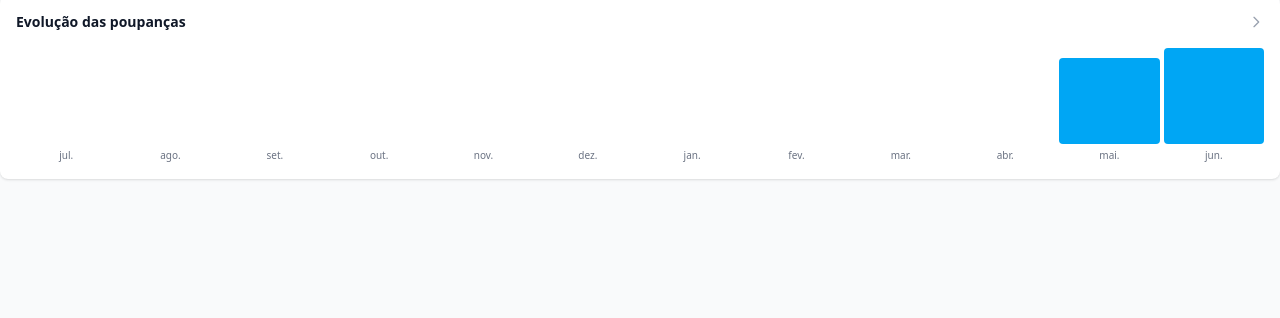
Test: SavingsTrend — month readout › replaces the readout when another column is tapped
When I tap May, then June
Click the 11th button with test id "trend-column": (1109, 96) [1059,48,1160,144]
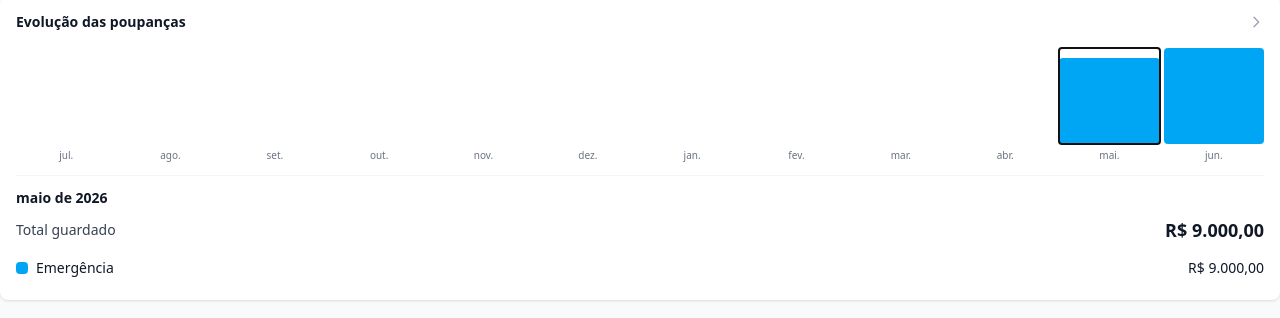
Now the heading "maio de 2026" is shown, box [16,188,108,207]
Now the text with test id "readout-total" reads "R$ 9.000,00", box [1165,218,1264,242]
Click the 12th button with test id "trend-column": (1214, 96) [1164,48,1264,144]
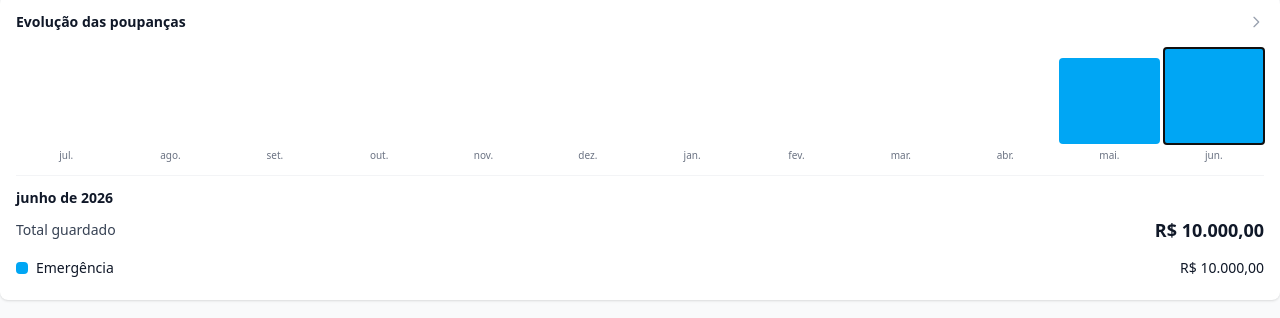
Now the heading "junho de 2026" is shown, box [16,188,113,207]
